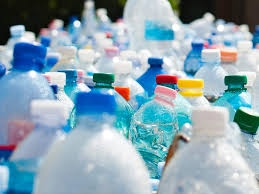plastic: (37, 90, 145, 190), (157, 104, 254, 191), (134, 83, 180, 165), (210, 71, 253, 107)
